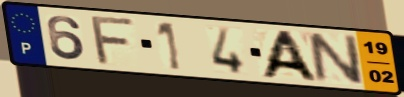1: (155, 21, 183, 72)
4: (208, 25, 249, 76)
6: (45, 14, 88, 62)
A: (257, 29, 322, 83)
F: (89, 15, 139, 67)
N: (303, 31, 366, 87)
